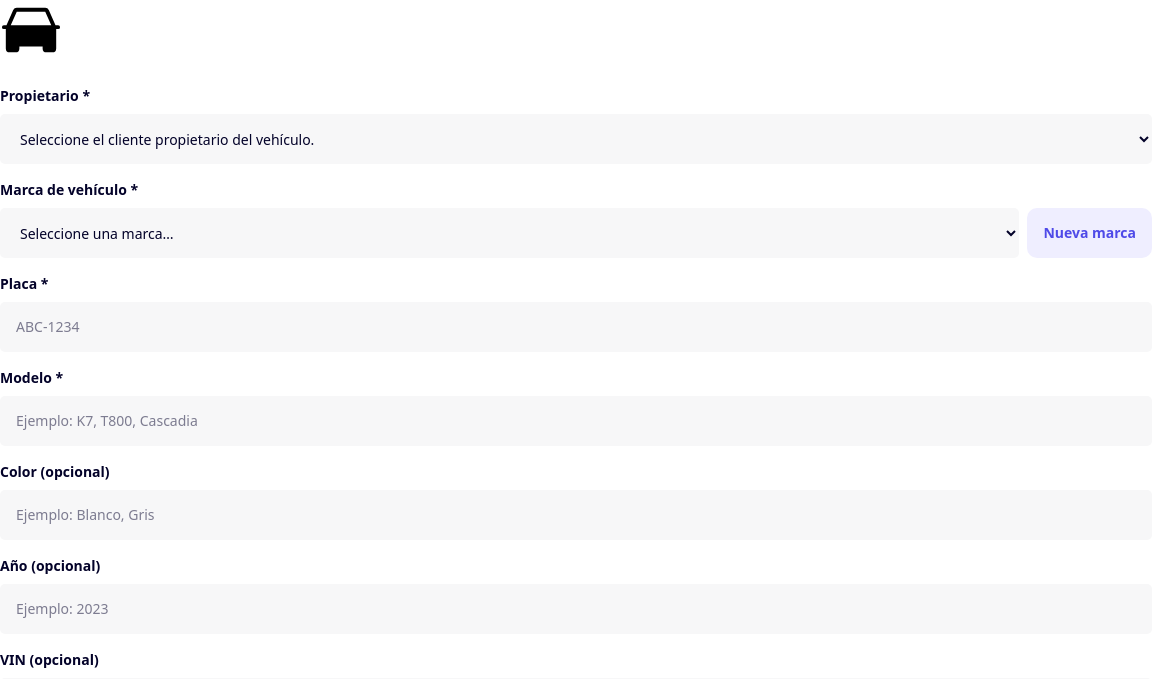
VehicleForm › allows creating a missing brand inline without losing entered vehicle draft values
The width and height of the screenshot is (1152, 679).
# Fill some vehicle data first
Select "Carlos Vera (0912345678)" in the dropdown labelled "Propietario". click: (576, 139)
box: left=0, top=114, right=1151, bottom=164
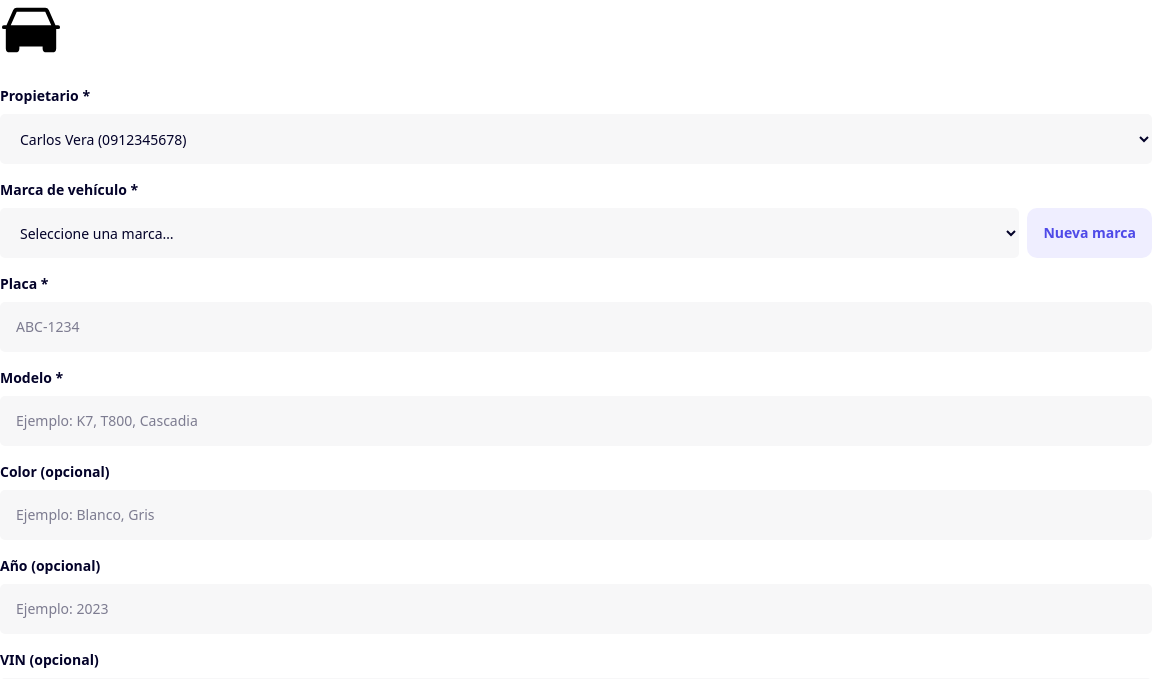
Type "PBA-5555" into the field labelled "Placa". click: (576, 327)
box: left=0, top=302, right=1151, bottom=352
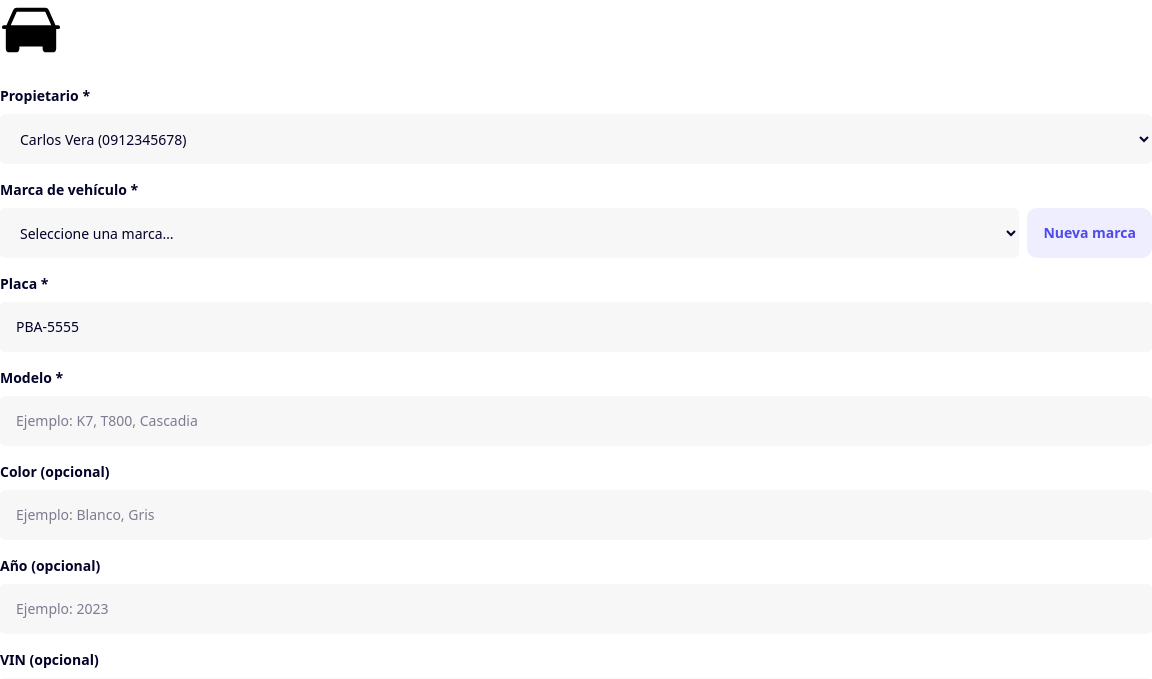
Type "Sentra" into the field labelled "Modelo". click: (576, 421)
box: left=0, top=396, right=1151, bottom=446
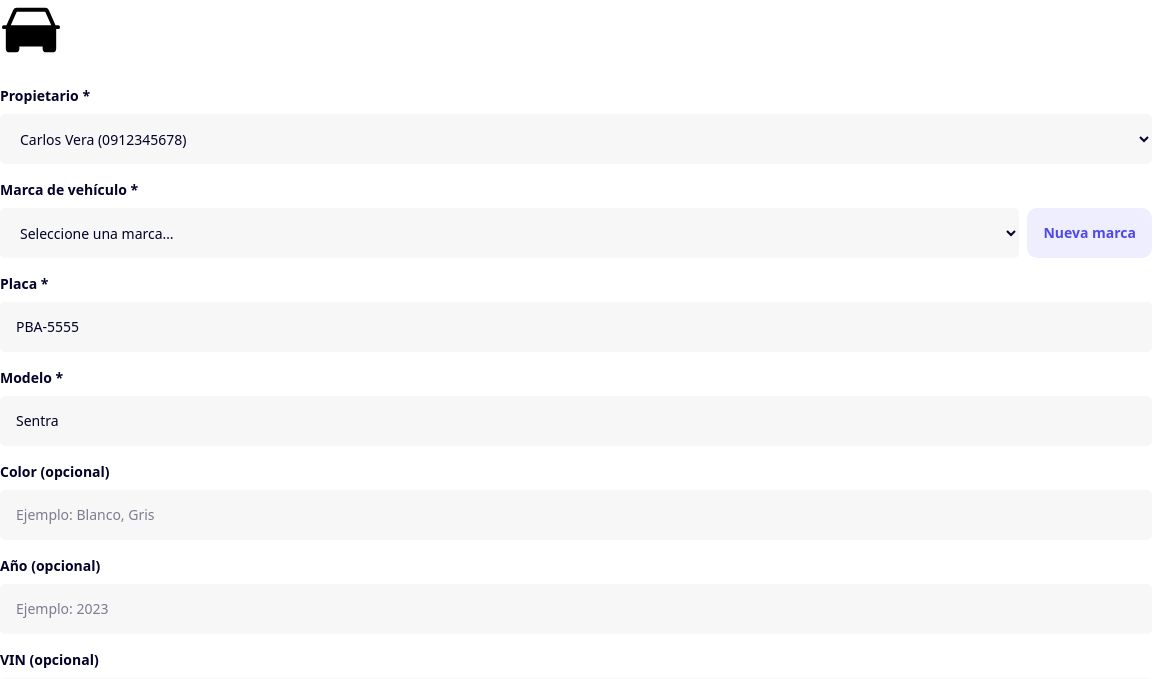
Click the button "Nueva marca". click: click(1090, 233)
box: left=1027, top=208, right=1151, bottom=258
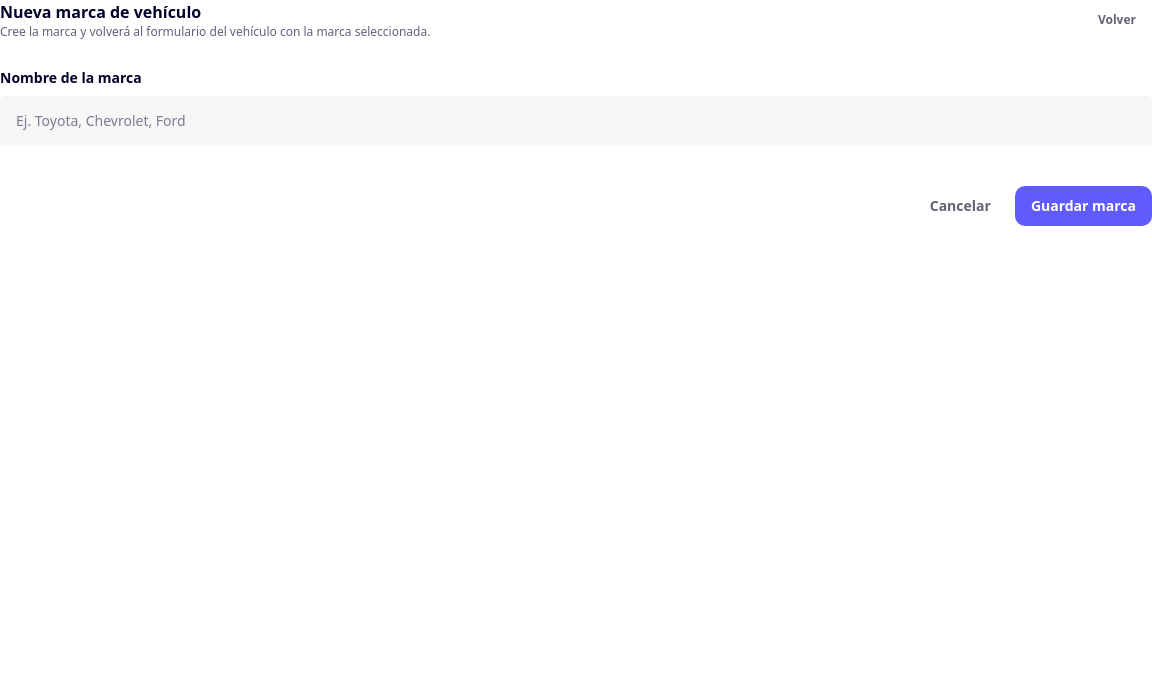
Expected: the heading "Nueva marca de vehículo" is shown, left=0, top=1, right=201, bottom=23
Type "Nissan" into the field labelled "Nombre de la marca". click: (576, 121)
box: left=0, top=96, right=1151, bottom=146
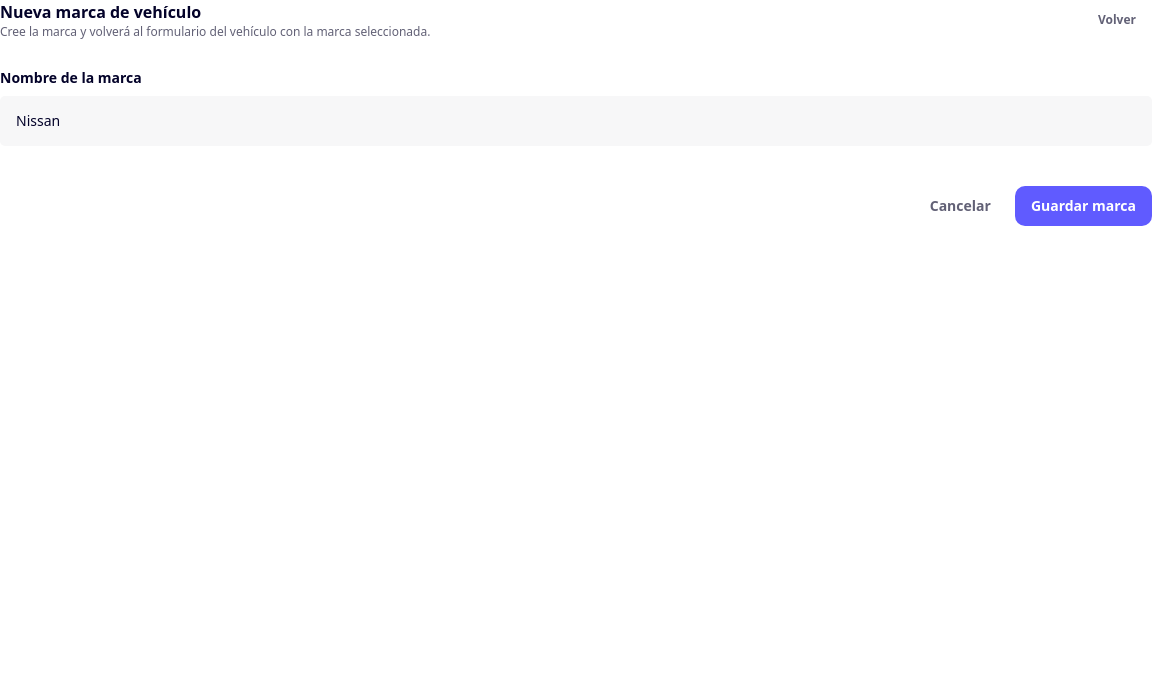
# Submit brand form
Click the button "Guardar marca". click: click(1083, 206)
box: left=1015, top=186, right=1151, bottom=226
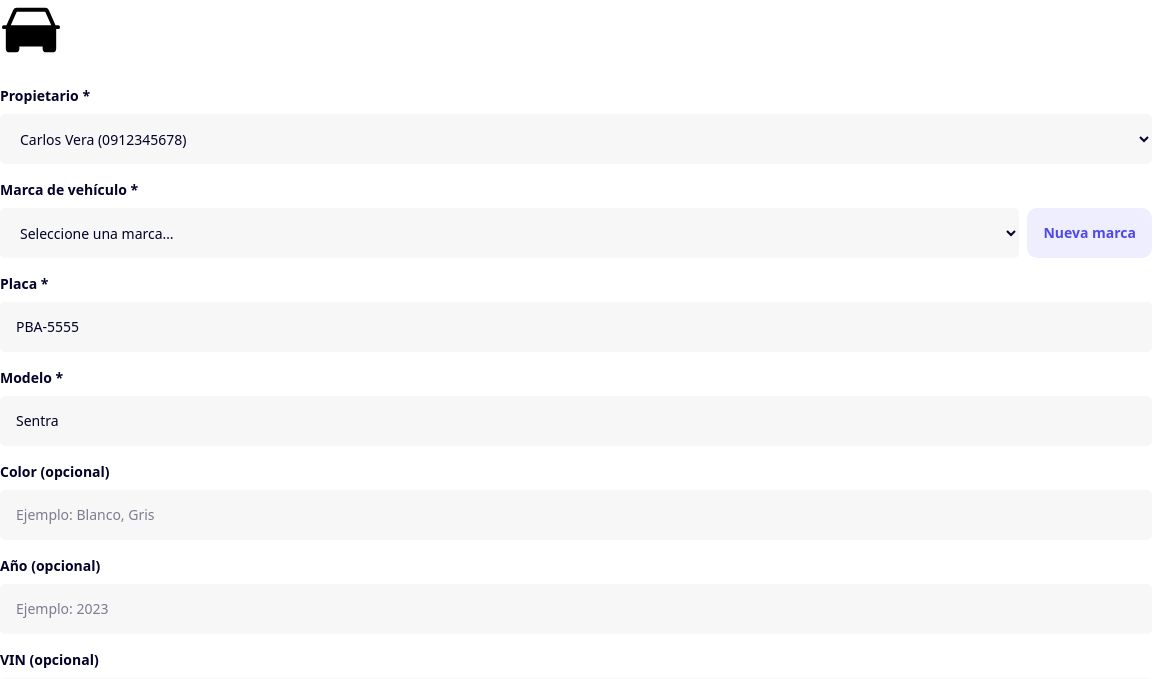
Expected: the field labelled "Placa" holds "PBA-5555", left=0, top=302, right=1151, bottom=352
Expected: the field labelled "Modelo" holds "Sentra", left=0, top=396, right=1151, bottom=446
